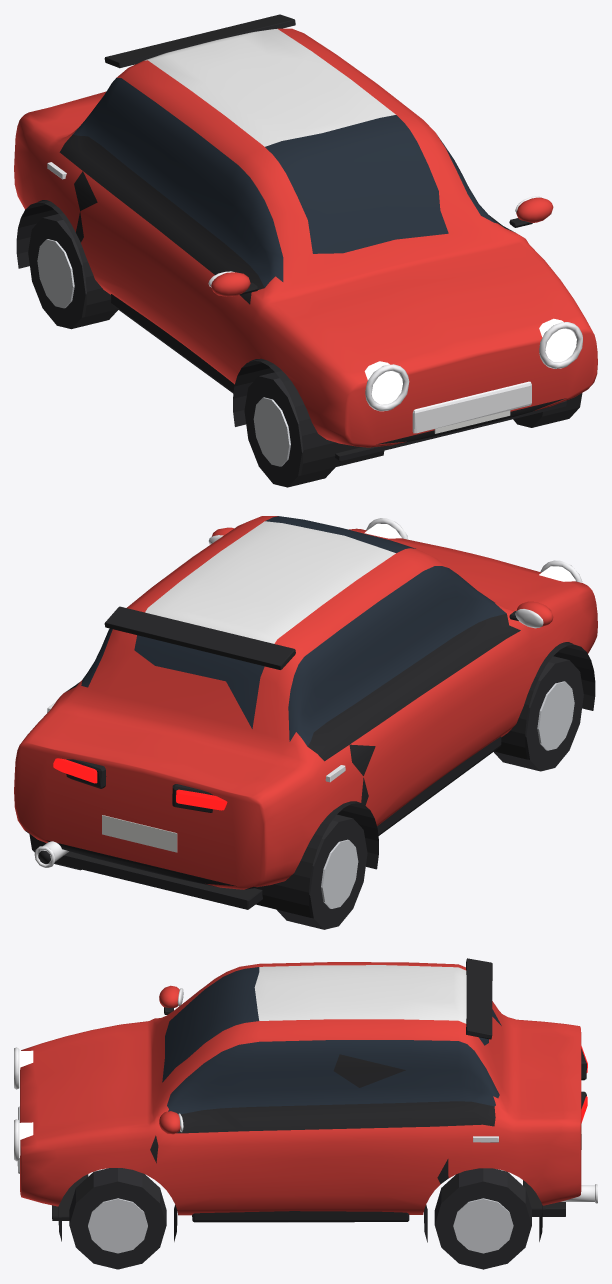
Rendered from pixie_lod.glb.
3 views of the same model, one above another, from view 1: azimuth 30°, elevation 25°; view 2: azimuth 150°, elevation 25°; view 3: azimuth 270°, elevation 25° (orthographic). The views are drawn at different scales.
Parts seen in each view (by area): view 1: body, wheel_fr, wheel_rr, wheel_fl; view 2: body, wheel_fr, wheel_rr; view 3: body, wheel_fl, wheel_rl.
Part boxes in pixels (bbox=[...]): body: bbox=[14, 14, 597, 475]; wheel_fr: bbox=[244, 372, 335, 487]; wheel_rr: bbox=[28, 214, 117, 329]; wheel_fl: bbox=[513, 393, 582, 427]; body: bbox=[14, 516, 597, 917]; wheel_fr: bbox=[494, 656, 583, 771]; wheel_rr: bbox=[277, 814, 367, 929]; body: bbox=[14, 958, 597, 1242]; wheel_fl: bbox=[69, 1168, 166, 1269]; wheel_rl: bbox=[434, 1168, 531, 1269].
Bounding box in the file's own units: 1.98 × 1.46 × 3.48.
